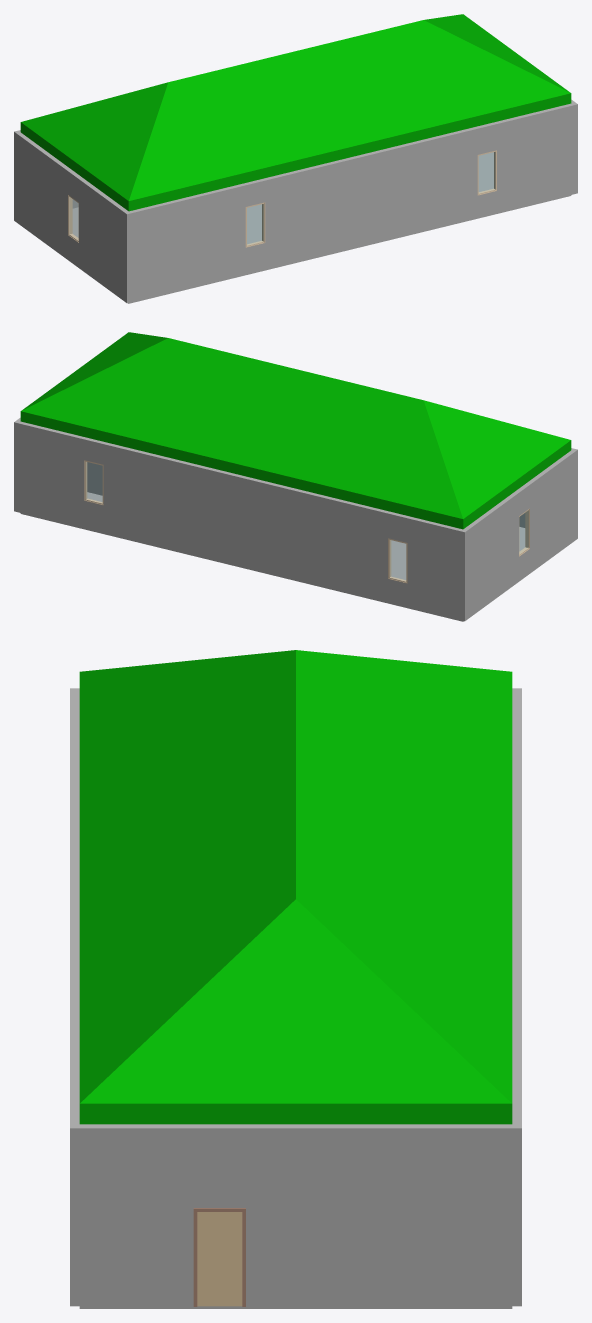
File: smallhouse.glb
3 views of the same model, one above another, from view 1: azimuth 30°, elevation 25°; view 2: azimuth 150°, elevation 25°; view 3: azimuth 270°, elevation 25° (orthographic). The views are drawn at different scales.
Parts seen in each view (by area): view 1: product-6227141d-ee12-409f-a82e-609265869752-body, product-6227141d-ee12-409f-a82e-60976586960f-body, product-6227141d-ee12-409f-a82e-6097658696cb-body, product-6227141d-ee12-409f-a82e-609565869752-body, product-6227141d-ee12-409f-a82e-6097658696b8-body, product-6227141d-ee12-409f-a82e-609365869752-body; view 2: product-6227141d-ee12-409f-a82e-609465869752-body, product-6227141d-ee12-409f-a82e-6097658696d5-body, product-6227141d-ee12-409f-a82e-6097658696cb-body, product-6227141d-ee12-409f-a82e-609565869752-body, product-6227141d-ee12-409f-a82e-609365869752-body, product-6227141d-ee12-409f-a82e-6097658696b8-body, product-6227141d-ee12-409f-a82e-60976586968c-body, product-6227141d-ee12-409f-a82e-609765869627-body; view 3: product-6227141d-ee12-409f-a82e-609765869627-body, product-6227141d-ee12-409f-a82e-609465869752-body, product-6227141d-ee12-409f-a82e-609265869752-body, product-6227141d-ee12-409f-a82e-609365869752-body, product-6227141d-ee12-409f-a82e-60976586960f-body, product-6227141d-ee12-409f-a82e-6097658698bb-body, product-6227141d-ee12-409f-a82e-6097658696d5-body, product-6227141d-ee12-409f-a82e-6097658696b8-body.
Part boxes in pixels (box(x1,y1,x2,y2)): product-6227141d-ee12-409f-a82e-609265869752-body: box(128, 20, 571, 211); product-6227141d-ee12-409f-a82e-60976586960f-body: box(124, 102, 577, 303); product-6227141d-ee12-409f-a82e-6097658696cb-body: box(16, 132, 128, 301); product-6227141d-ee12-409f-a82e-609565869752-body: box(20, 82, 167, 210); product-6227141d-ee12-409f-a82e-6097658696b8-body: box(72, 152, 571, 303); product-6227141d-ee12-409f-a82e-609365869752-body: box(424, 14, 570, 92); product-6227141d-ee12-409f-a82e-609465869752-body: box(20, 338, 463, 529); product-6227141d-ee12-409f-a82e-6097658696d5-body: box(18, 421, 467, 621); product-6227141d-ee12-409f-a82e-6097658696cb-body: box(463, 450, 575, 619); product-6227141d-ee12-409f-a82e-609565869752-body: box(424, 400, 571, 528); product-6227141d-ee12-409f-a82e-609365869752-body: box(21, 332, 167, 410); product-6227141d-ee12-409f-a82e-6097658696b8-body: box(20, 492, 525, 621); product-6227141d-ee12-409f-a82e-60976586968c-body: box(87, 462, 102, 495); product-6227141d-ee12-409f-a82e-609765869627-body: box(14, 417, 20, 512); product-6227141d-ee12-409f-a82e-609765869627-body: box(79, 1124, 521, 1306); product-6227141d-ee12-409f-a82e-609465869752-body: box(296, 650, 512, 1103); product-6227141d-ee12-409f-a82e-609265869752-body: box(79, 650, 295, 1103); product-6227141d-ee12-409f-a82e-609365869752-body: box(79, 899, 512, 1124); product-6227141d-ee12-409f-a82e-60976586960f-body: box(70, 688, 79, 1306); product-6227141d-ee12-409f-a82e-6097658698bb-body: box(193, 1208, 245, 1306); product-6227141d-ee12-409f-a82e-6097658696d5-body: box(512, 688, 521, 1124); product-6227141d-ee12-409f-a82e-6097658696b8-body: box(79, 1306, 512, 1308).
Size of what is drawn, in the model's own units: 21.22 by 7.15 by 9.2.
